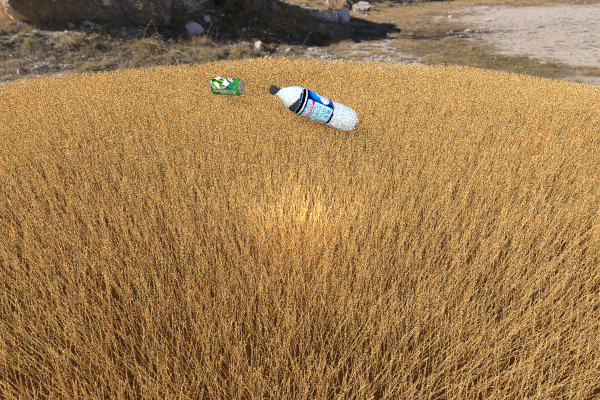bottle: (269, 85, 359, 131)
can: (209, 76, 244, 95), (197, 66, 227, 86)
